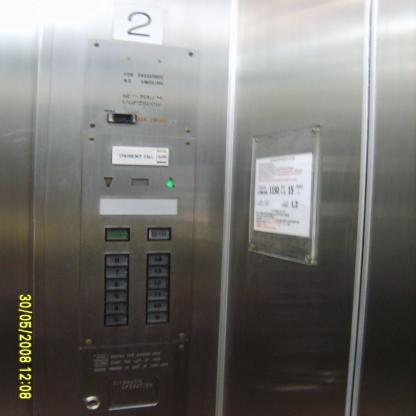10: (145, 299, 169, 312)
11: (145, 288, 170, 300)
12: (146, 277, 170, 289)
13: (146, 264, 170, 278)
14: (145, 250, 172, 266)
4: (103, 301, 129, 315)
5: (103, 290, 130, 303)
6: (104, 278, 129, 291)
7: (104, 266, 130, 279)
8: (103, 251, 129, 267)
9: (145, 311, 169, 324)
blur: (103, 314, 129, 326)
keyhole: (84, 396, 100, 411)
led: (111, 2, 163, 46)
text_blur: (102, 226, 132, 242), (145, 225, 173, 241)
